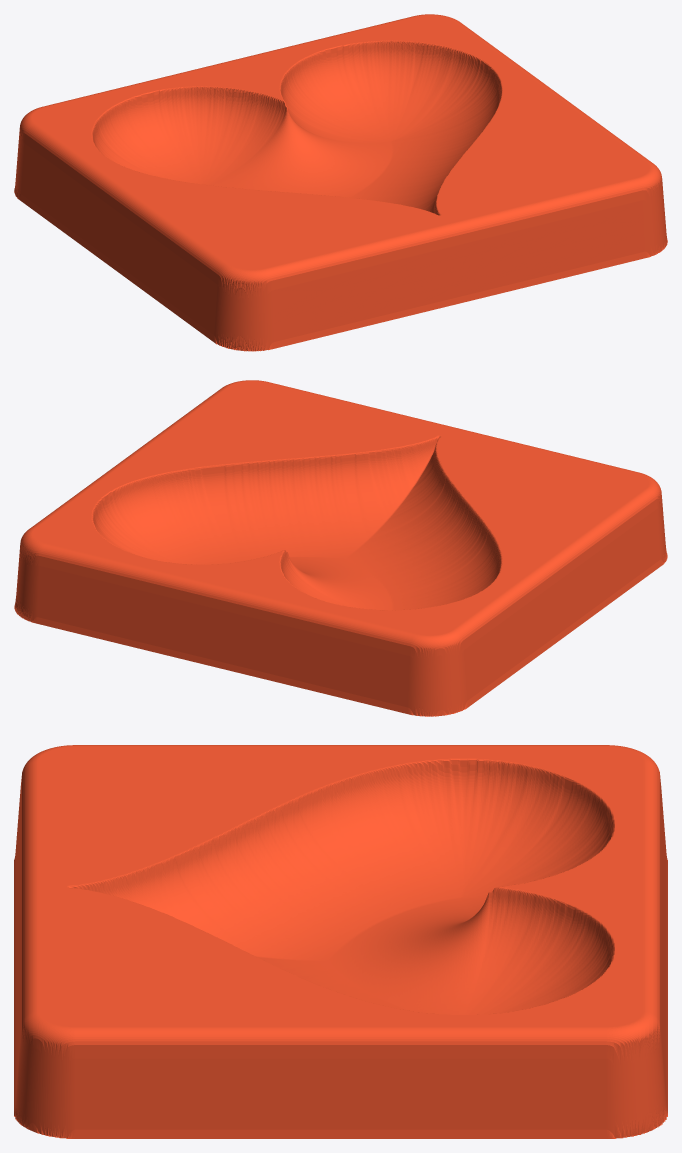
File: mold.glb
3 views of the same model, one above another, from view 1: azimuth 30°, elevation 25°; view 2: azimuth 150°, elevation 25°; view 3: azimuth 270°, elevation 25° (orthographic). The views are drawn at different scales.
Parts seen in each view (by area): view 1: geometry_0; view 2: geometry_0; view 3: geometry_0.
Boxes of the visible parts, left/top/right/bottom form: geometry_0: left=14, top=14, right=667, bottom=351; geometry_0: left=14, top=380, right=667, bottom=716; geometry_0: left=14, top=745, right=667, bottom=1138.
Size of the model in its own units: 0.105 by 0.0165 by 0.0964.
